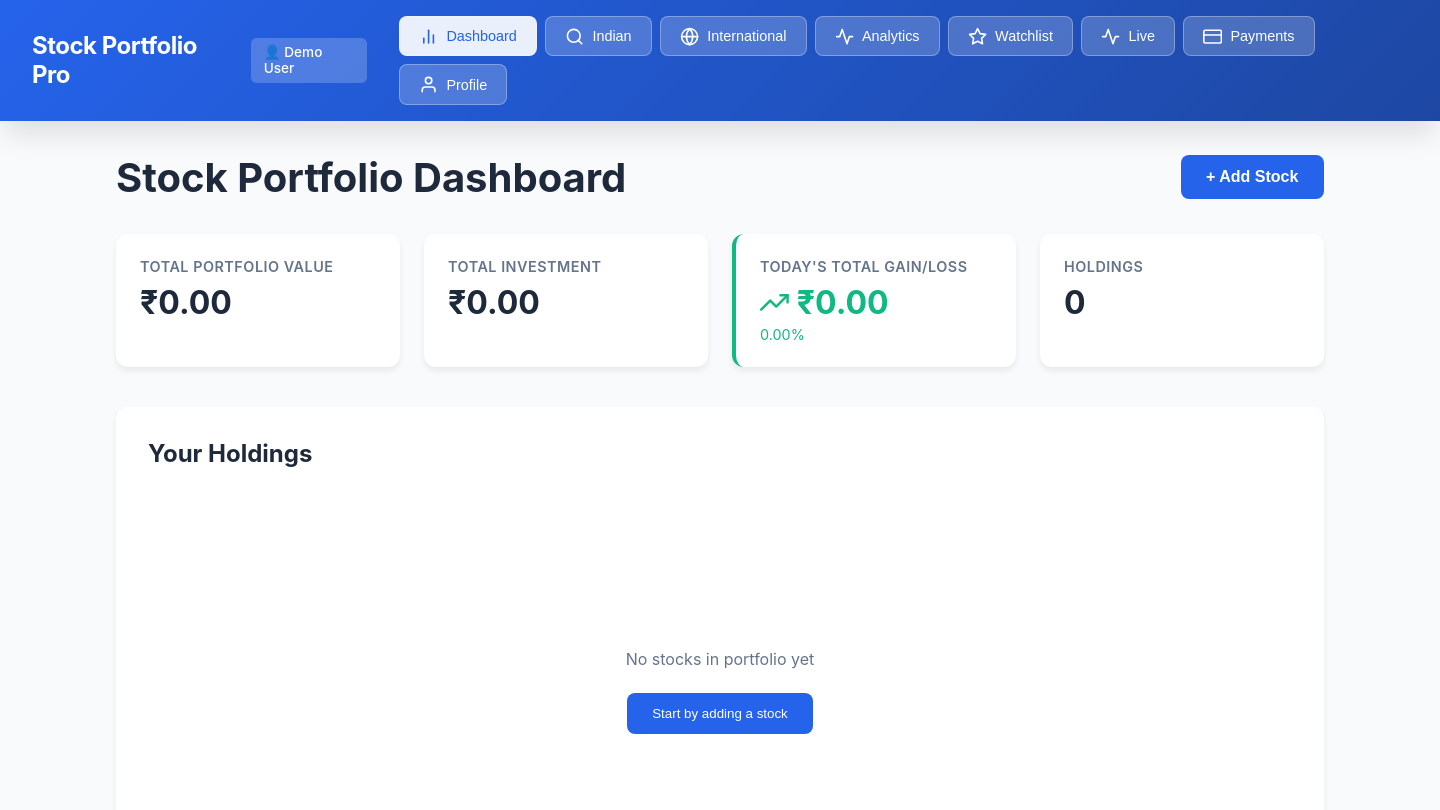
it: stores and shows a completed demo payment in history
Click the button "Payments".
click(1249, 36)  # box [1183, 16, 1315, 56]
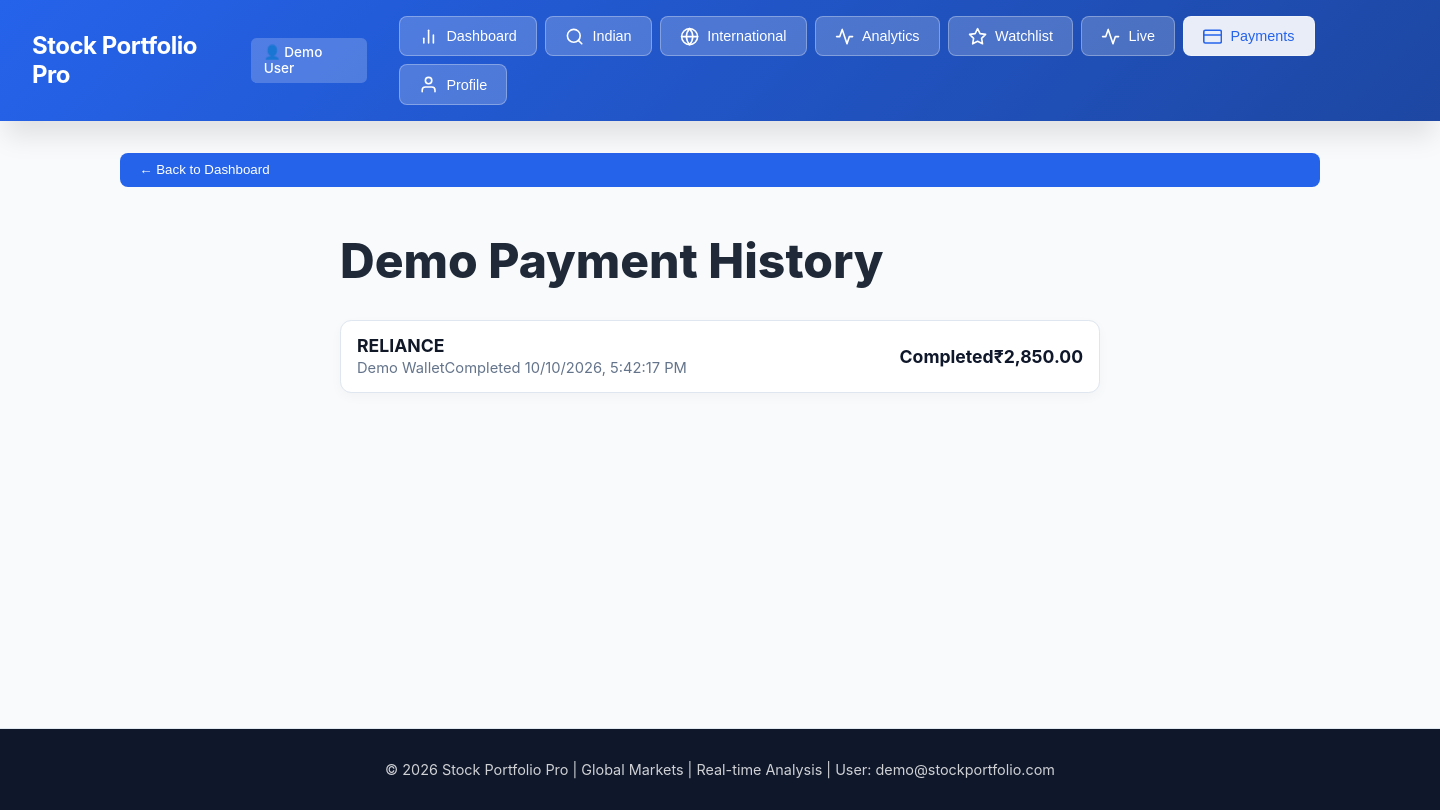
Expected: the text "RELIANCE" is shown, [357, 335, 444, 356]
Expected: the text "Demo Wallet" is shown, [357, 359, 445, 377]
